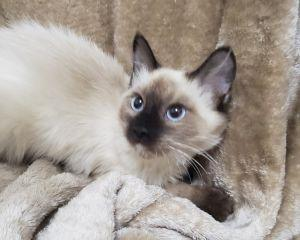siamese: (110, 25, 243, 169)
